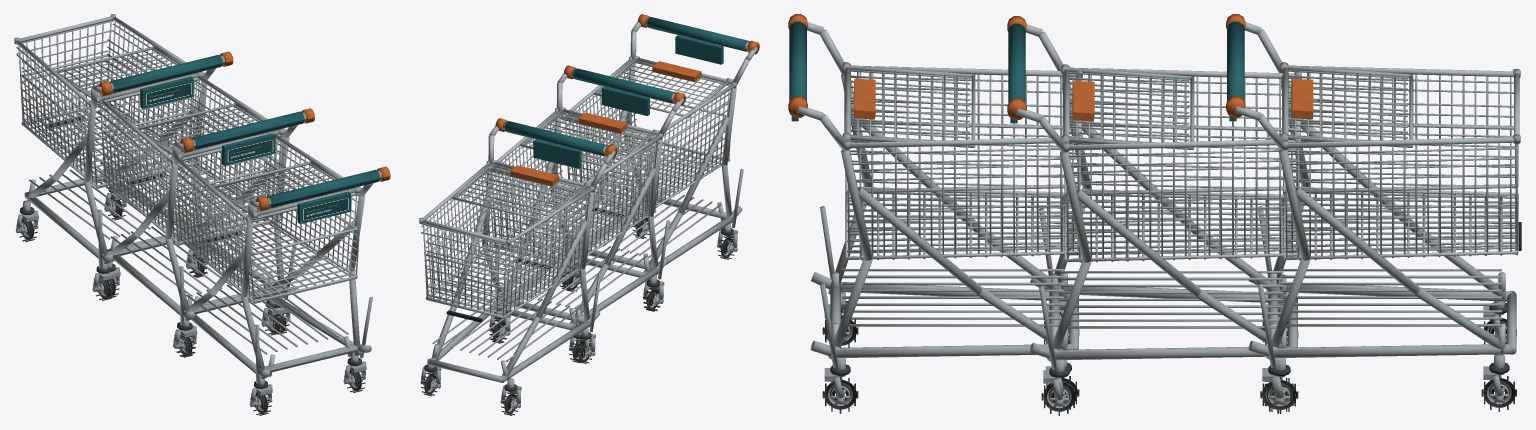
The picture shows the model from 3 angles, left to right: view 1: azimuth 30°, elevation 25°; view 2: azimuth 150°, elevation 25°; view 3: azimuth 270°, elevation 25°; orthographic projection. The views are drawn at different scales.
Parts seen in each view (by area): view 1: VIS_STACK2_VIS_SHOPPING_BODY_Galvanized_Steel, VIS_STACK0_VIS_SHOPPING_BODY_Galvanized_Steel, VIS_STACK1_VIS_SHOPPING_BODY_Galvanized_Steel, VIS_STACK2_VIS_SHOPPING_BODY_Chrome_Handles, VIS_STACK0_VIS_SHOPPING_BODY_Chrome_Handles, VIS_STACK1_VIS_SHOPPING_BODY_Chrome_Handles, VIS_STACK2_VIS_NESTING_GATE_Galvanized_Steel, VIS_STACK1_VIS_NESTING_GATE_Galvanized_Steel, VIS_STACK0_VIS_NESTING_GATE_Galvanized_Steel, VIS_STACK0_VIS_SHOPPING_BODY_Teal_Polymer, VIS_STACK2_VIS_SHOPPING_BODY_Teal_Polymer, VIS_STACK1_VIS_SHOPPING_BODY_Teal_Polymer (+3 smaller); view 2: VIS_STACK0_VIS_SHOPPING_BODY_Galvanized_Steel, VIS_STACK1_VIS_SHOPPING_BODY_Galvanized_Steel, VIS_STACK2_VIS_SHOPPING_BODY_Galvanized_Steel, VIS_STACK0_VIS_SHOPPING_BODY_Chrome_Handles, VIS_STACK0_VIS_NESTING_GATE_Galvanized_Steel, VIS_STACK2_VIS_SHOPPING_BODY_Chrome_Handles, VIS_STACK1_VIS_SHOPPING_BODY_Chrome_Handles, VIS_STACK1_VIS_SHOPPING_BODY_Teal_Polymer, VIS_STACK0_VIS_SHOPPING_BODY_Teal_Polymer, VIS_STACK2_VIS_SHOPPING_BODY_Teal_Polymer, VIS_STACK2_VIS_NESTING_GATE_Galvanized_Steel, VIS_STACK1_VIS_NESTING_GATE_Galvanized_Steel (+3 smaller); view 3: VIS_STACK0_VIS_SHOPPING_BODY_Galvanized_Steel, VIS_STACK2_VIS_SHOPPING_BODY_Galvanized_Steel, VIS_STACK1_VIS_SHOPPING_BODY_Galvanized_Steel, VIS_STACK0_VIS_SHOPPING_BODY_Chrome_Handles, VIS_STACK2_VIS_SHOPPING_BODY_Chrome_Handles, VIS_STACK1_VIS_SHOPPING_BODY_Chrome_Handles, VIS_STACK1_VIS_NESTING_GATE_Galvanized_Steel, VIS_STACK2_VIS_NESTING_GATE_Galvanized_Steel, VIS_STACK0_VIS_NESTING_GATE_Galvanized_Steel, VIS_STACK1_VIS_SHOPPING_BODY_Teal_Polymer, VIS_STACK0_VIS_SHOPPING_BODY_Teal_Polymer, VIS_STACK2_VIS_SHOPPING_BODY_Teal_Polymer (+3 smaller).
Part boxes in pixels (x1=…): VIS_STACK2_VIS_SHOPPING_BODY_Galvanized_Steel: x1=176, y1=140, x2=382, y2=383; VIS_STACK0_VIS_SHOPPING_BODY_Galvanized_Steel: x1=16, y1=20, x2=225, y2=268; VIS_STACK1_VIS_SHOPPING_BODY_Galvanized_Steel: x1=98, y1=81, x2=306, y2=325; VIS_STACK2_VIS_SHOPPING_BODY_Chrome_Handles: x1=178, y1=132, x2=373, y2=376; VIS_STACK0_VIS_SHOPPING_BODY_Chrome_Handles: x1=16, y1=16, x2=216, y2=261; VIS_STACK1_VIS_SHOPPING_BODY_Chrome_Handles: x1=101, y1=74, x2=297, y2=314; VIS_STACK2_VIS_NESTING_GATE_Galvanized_Steel: x1=207, y1=161, x2=354, y2=215; VIS_STACK1_VIS_NESTING_GATE_Galvanized_Steel: x1=132, y1=103, x2=279, y2=157; VIS_STACK0_VIS_NESTING_GATE_Galvanized_Steel: x1=50, y1=46, x2=197, y2=100; VIS_STACK0_VIS_SHOPPING_BODY_Teal_Polymer: x1=110, y1=54, x2=222, y2=108; VIS_STACK2_VIS_SHOPPING_BODY_Teal_Polymer: x1=267, y1=169, x2=379, y2=223; VIS_STACK1_VIS_SHOPPING_BODY_Teal_Polymer: x1=191, y1=111, x2=304, y2=165; VIS_STACK0_VIS_SHOPPING_BODY_Galvanized_Steel: x1=421, y1=122, x2=606, y2=382; VIS_STACK1_VIS_SHOPPING_BODY_Galvanized_Steel: x1=489, y1=69, x2=674, y2=330; VIS_STACK2_VIS_SHOPPING_BODY_Galvanized_Steel: x1=563, y1=17, x2=748, y2=277; VIS_STACK0_VIS_SHOPPING_BODY_Chrome_Handles: x1=422, y1=126, x2=615, y2=379; VIS_STACK0_VIS_NESTING_GATE_Galvanized_Steel: x1=452, y1=162, x2=586, y2=221; VIS_STACK2_VIS_SHOPPING_BODY_Chrome_Handles: x1=564, y1=22, x2=757, y2=271; VIS_STACK1_VIS_SHOPPING_BODY_Chrome_Handles: x1=491, y1=73, x2=683, y2=327; VIS_STACK1_VIS_SHOPPING_BODY_Teal_Polymer: x1=573, y1=68, x2=675, y2=115; VIS_STACK0_VIS_SHOPPING_BODY_Teal_Polymer: x1=505, y1=121, x2=607, y2=168; VIS_STACK2_VIS_SHOPPING_BODY_Teal_Polymer: x1=647, y1=17, x2=749, y2=64; VIS_STACK2_VIS_NESTING_GATE_Galvanized_Steel: x1=594, y1=57, x2=729, y2=117; VIS_STACK1_VIS_NESTING_GATE_Galvanized_Steel: x1=520, y1=109, x2=655, y2=169; VIS_STACK0_VIS_SHOPPING_BODY_Galvanized_Steel: x1=1248, y1=73, x2=1517, y2=368; VIS_STACK2_VIS_SHOPPING_BODY_Galvanized_Steel: x1=810, y1=72, x2=1079, y2=368; VIS_STACK1_VIS_SHOPPING_BODY_Galvanized_Steel: x1=1029, y1=75, x2=1297, y2=370; VIS_STACK0_VIS_SHOPPING_BODY_Chrome_Handles: x1=1234, y1=22, x2=1519, y2=354; VIS_STACK2_VIS_SHOPPING_BODY_Chrome_Handles: x1=797, y1=22, x2=1081, y2=349; VIS_STACK1_VIS_SHOPPING_BODY_Chrome_Handles: x1=1016, y1=24, x2=1300, y2=347; VIS_STACK1_VIS_NESTING_GATE_Galvanized_Steel: x1=1064, y1=68, x2=1194, y2=149; VIS_STACK2_VIS_NESTING_GATE_Galvanized_Steel: x1=845, y1=66, x2=975, y2=147; VIS_STACK0_VIS_NESTING_GATE_Galvanized_Steel: x1=1283, y1=66, x2=1413, y2=147; VIS_STACK1_VIS_SHOPPING_BODY_Teal_Polymer: x1=1008, y1=23, x2=1025, y2=123; VIS_STACK0_VIS_SHOPPING_BODY_Teal_Polymer: x1=1227, y1=21, x2=1244, y2=121; VIS_STACK2_VIS_SHOPPING_BODY_Teal_Polymer: x1=789, y1=21, x2=806, y2=121.
Size of the model in its own units: 0.6597 by 1.09 by 2.25.
Materials: 9 (9 with a texture image).
